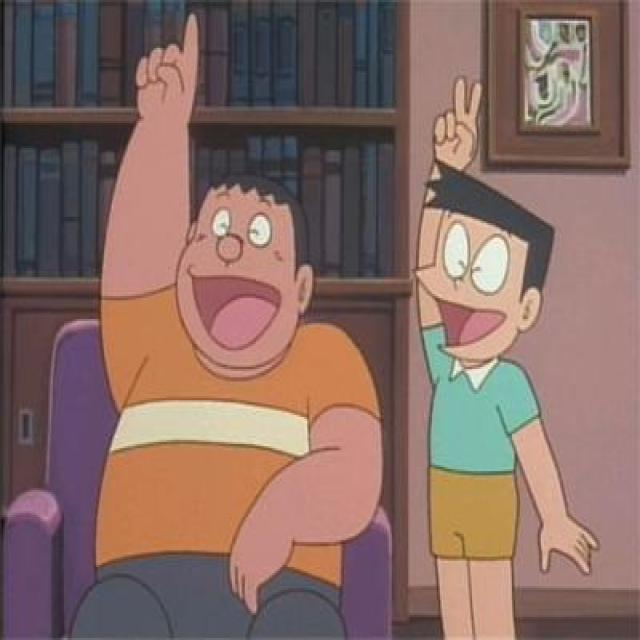jaian: (171, 163, 317, 377)
suneo: (411, 148, 557, 373)
